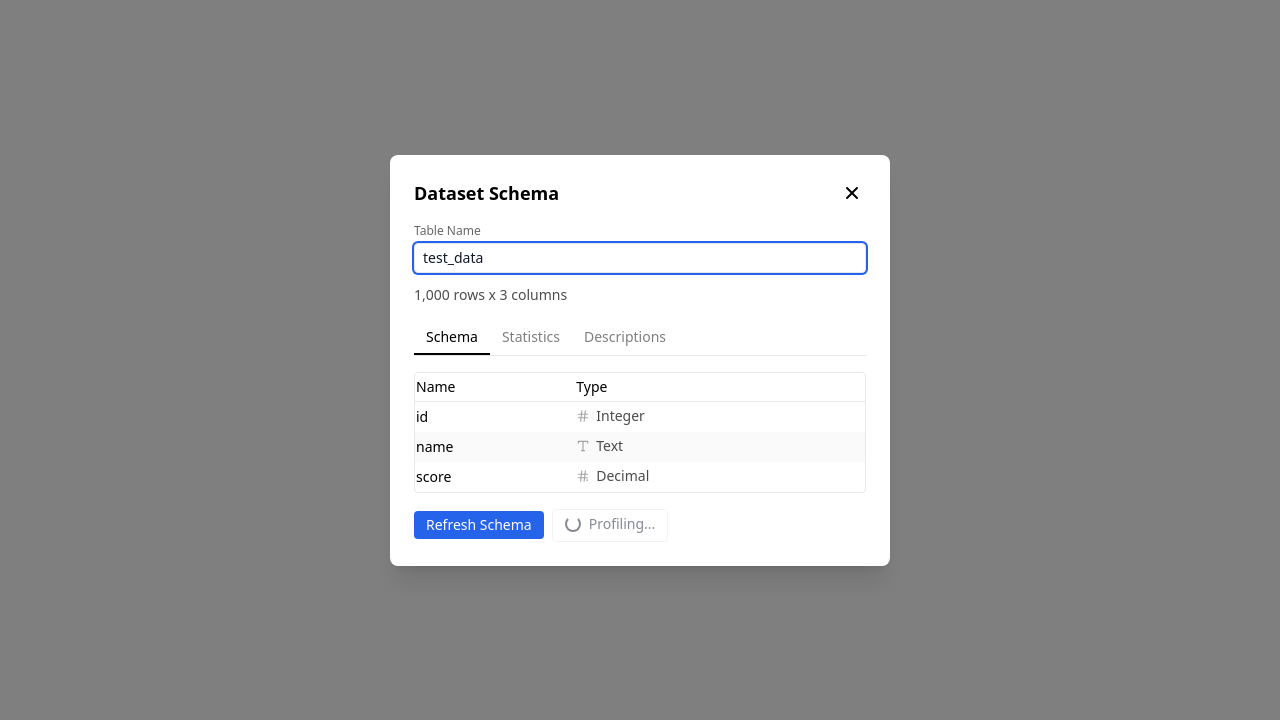
SM-STATS-EMPTY-1: Empty state shows Profile Columns button › shows loading spinner when profiling is in progress
Click the button with test id "schema-tab-stats".
click(531, 338)  # box [490,320,572,354]
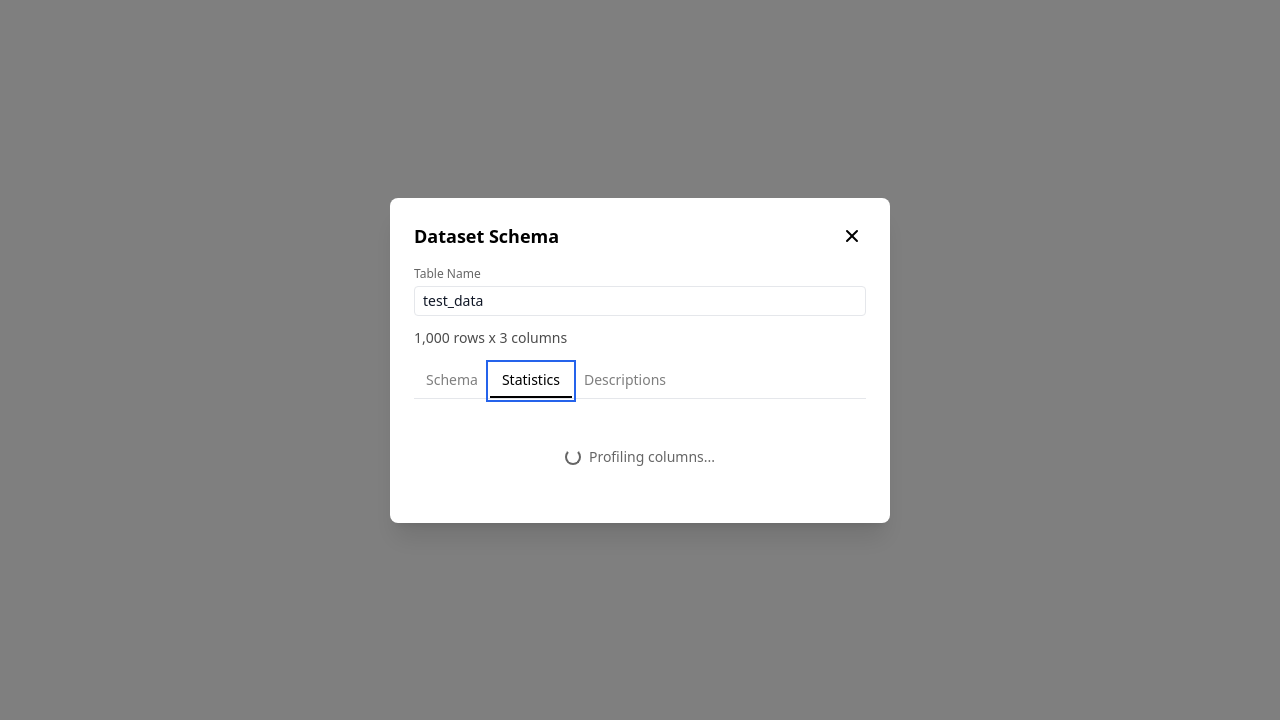
Expected: the text "Profiling columns..." is shown, [565,446,715,466]
